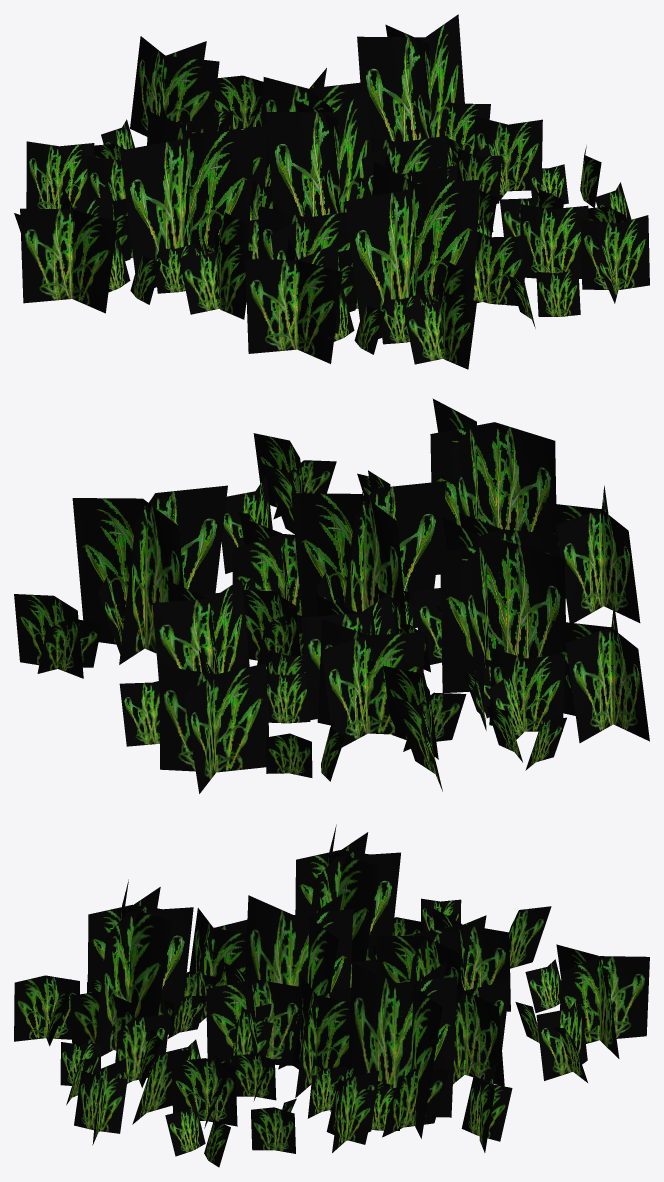
Rendered from pasto_zona_dos.glb.
3 renders of one model, top to bottom at view 1: azimuth 30°, elevation 25°; view 2: azimuth 150°, elevation 25°; view 3: azimuth 270°, elevation 25°, orthographic. The views are drawn at different scales.
Visible parts, largest first — view 1: YUYO LINDO.001; view 2: YUYO LINDO.001; view 3: YUYO LINDO.001.
Boxes of the visible parts, x1,y1,x2,y2 form: YUYO LINDO.001: (14,14,649,369); YUYO LINDO.001: (14,398,649,793); YUYO LINDO.001: (14,824,649,1167).
Bounding box in the file's own units: 3.61 × 0.9027 × 3.85.
Materials: 1 (1 with a texture image).
